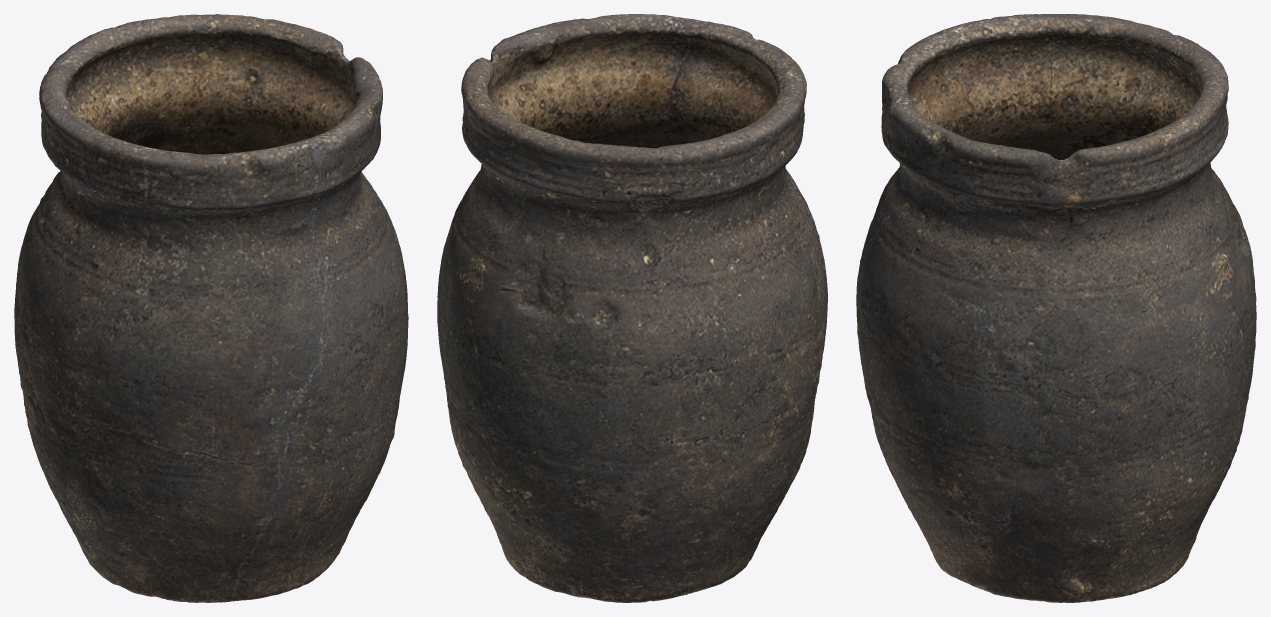
The picture shows the model from 3 angles, left to right: view 1: azimuth 30°, elevation 25°; view 2: azimuth 150°, elevation 25°; view 3: azimuth 270°, elevation 25°; orthographic projection.
Visible parts, largest first — view 1: Object_3, Object_4, Object_2; view 2: Object_3, Object_2, Object_4; view 3: Object_2, Object_3, Object_4.
Part boxes in pixels (bbox=[...]): Object_3: bbox=[14, 14, 404, 600]; Object_4: bbox=[14, 55, 408, 602]; Object_2: bbox=[37, 37, 408, 602]; Object_3: bbox=[437, 20, 823, 602]; Object_2: bbox=[437, 14, 807, 585]; Object_4: bbox=[456, 58, 827, 602]; Object_2: bbox=[856, 14, 1256, 602]; Object_3: bbox=[879, 18, 1256, 602]; Object_4: bbox=[856, 32, 1210, 597].
Bounding box in the file's own units: 165 × 220 × 167.
1 material, 1 textured.
